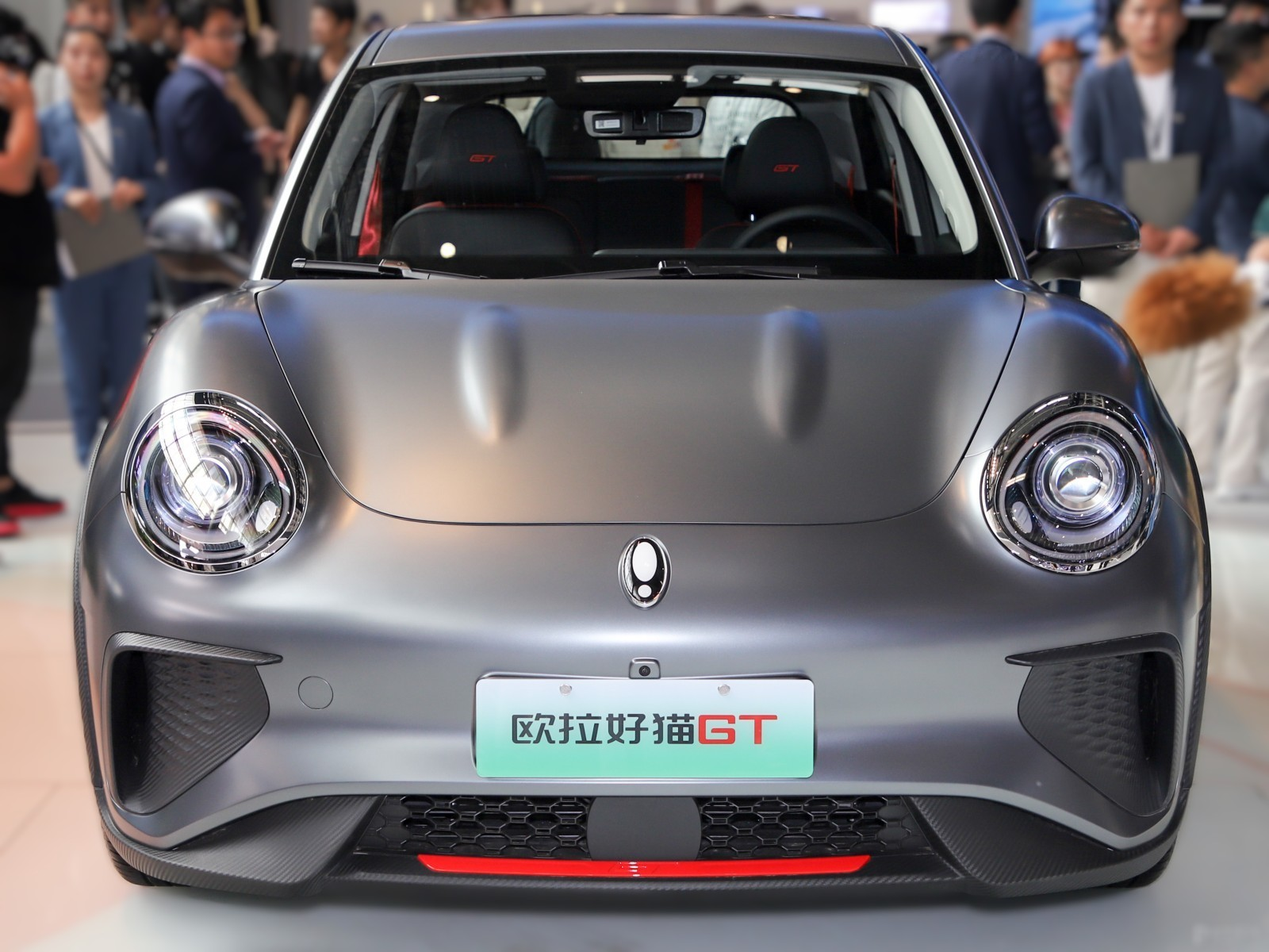ORA: (622, 538, 667, 608)
